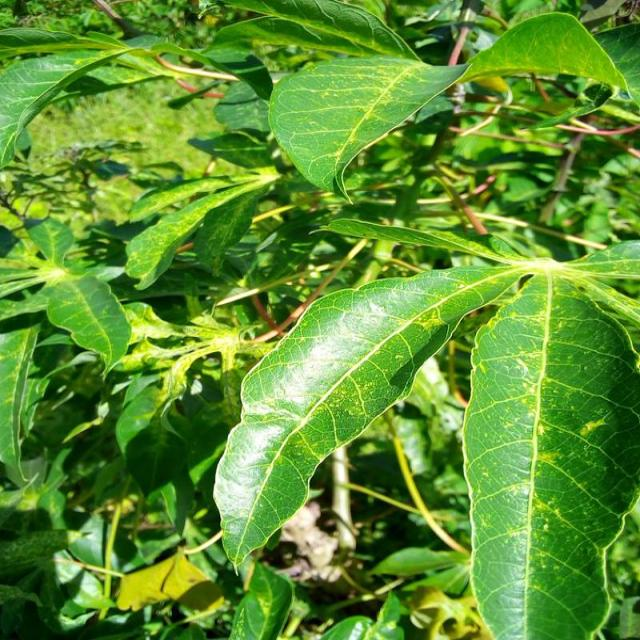cassava leaf: (266, 9, 630, 202), (460, 265, 638, 638), (266, 52, 468, 203)
